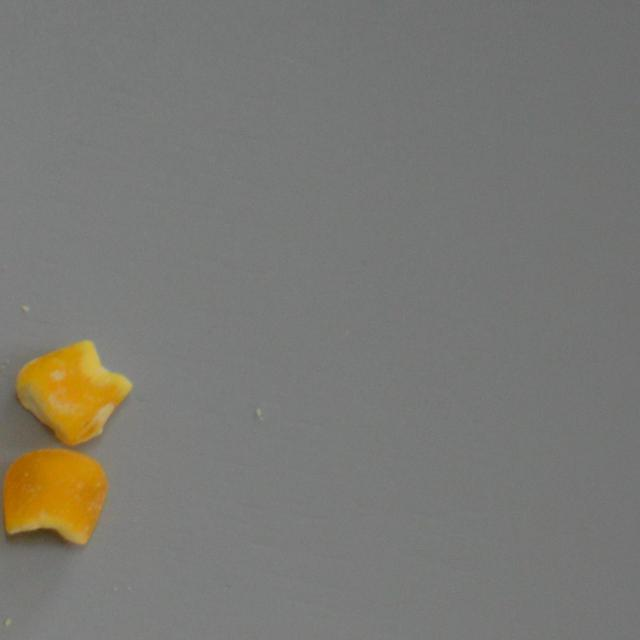dañado: (0, 442, 112, 554)
pelicula: (10, 334, 137, 446)
